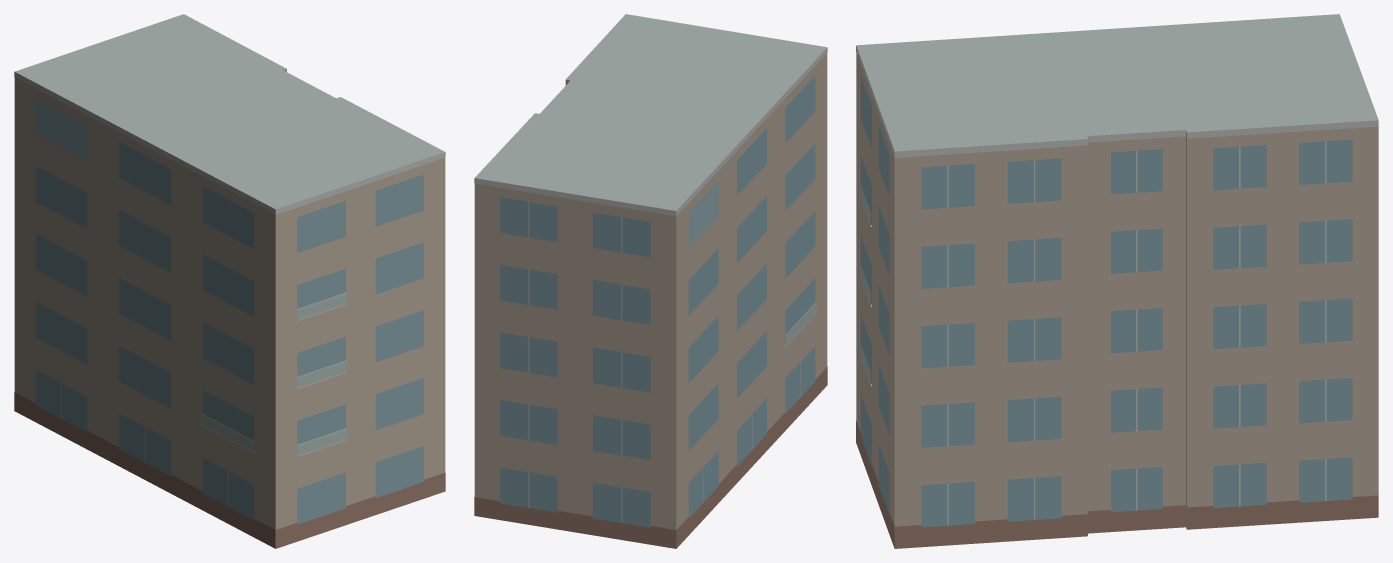
The model's file is survey-upis-32738996.glb.
3 views of the same model, side by side, from view 1: azimuth 30°, elevation 25°; view 2: azimuth 150°, elevation 25°; view 3: azimuth 270°, elevation 25° (orthographic). The views are drawn at different scales.
Visible parts, largest first — view 1: survey-upis-32738996.tmp; view 2: survey-upis-32738996.tmp; view 3: survey-upis-32738996.tmp.
Part boxes in pixels (bbox=[...]): survey-upis-32738996.tmp: bbox=[14, 14, 445, 548]; survey-upis-32738996.tmp: bbox=[474, 14, 827, 548]; survey-upis-32738996.tmp: bbox=[856, 14, 1378, 548].
Bounding box in the file's own units: 11.34 × 15.25 × 18.19.
